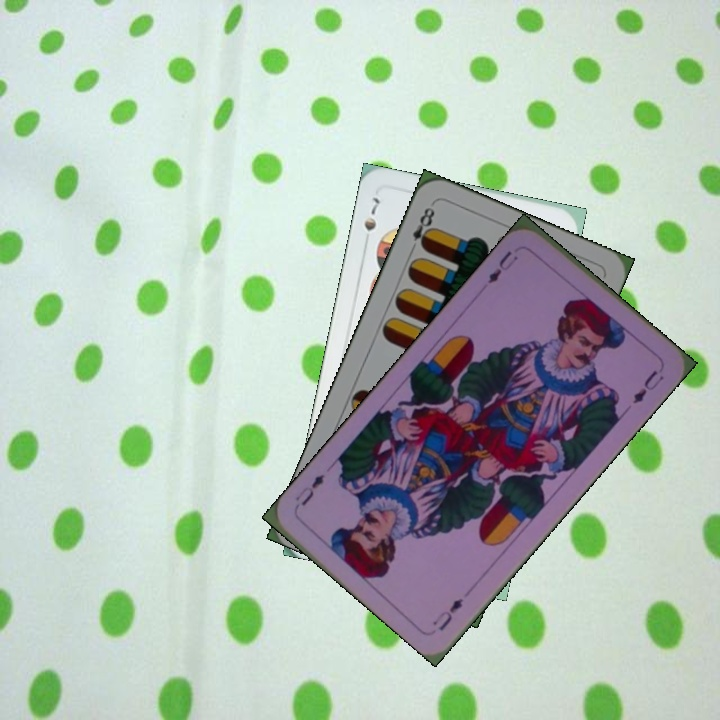E8: (405, 203, 438, 256)
EU: (428, 594, 466, 634), (483, 246, 520, 287)
S7: (360, 193, 383, 234)
